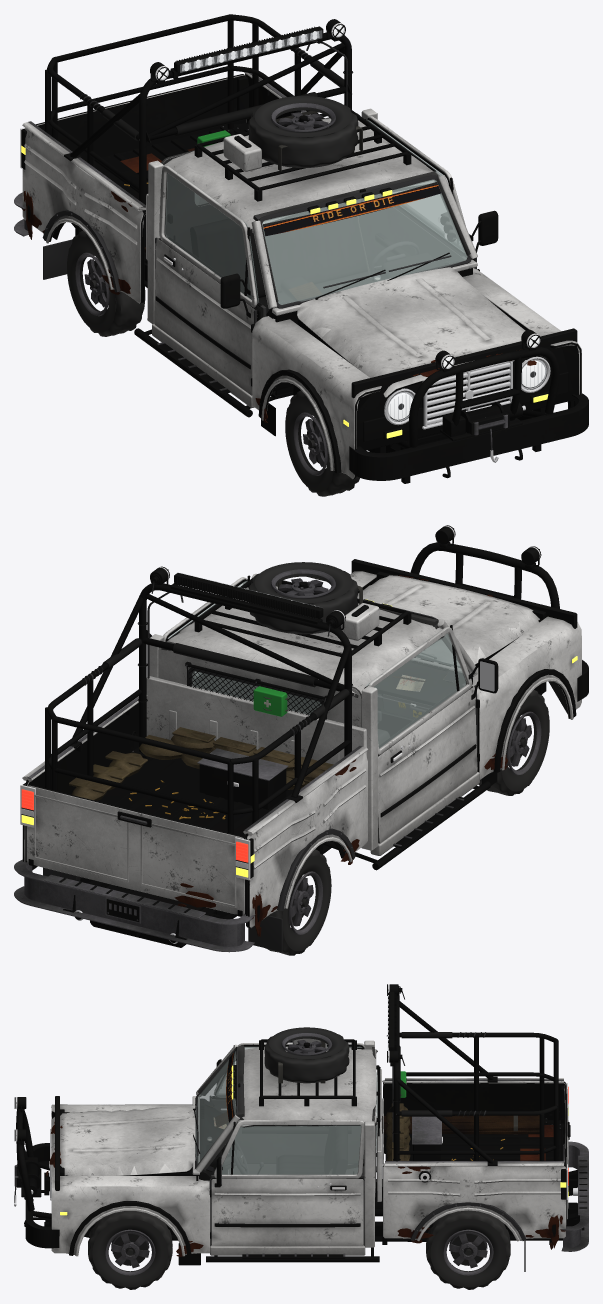
3 renders of one model, top to bottom at view 1: azimuth 30°, elevation 25°; view 2: azimuth 150°, elevation 25°; view 3: azimuth 270°, elevation 25°, orthographic. The views are drawn at different scales.
Visible parts, largest first — view 1: body, panel_door_R, panel_hood, panel_fender_R, panel_bumper_F, panel_tailgate, wheel_RR, wheel_FR, panel_door_L, panel_fender_L; view 2: body, panel_tailgate, panel_door_R, panel_fender_R, panel_bumper_R, panel_hood, wheel_RR, wheel_FR, panel_door_L; view 3: body, panel_door_L, panel_hood, panel_fender_L, wheel_RL, wheel_FL, panel_bumper_F, panel_bumper_R, panel_door_R, panel_fender_R, panel_tailgate.
Part boxes in pixels (bbox=[...]): body: bbox=[20, 14, 577, 483]; panel_door_R: bbox=[154, 165, 262, 395]; panel_hood: bbox=[297, 267, 546, 397]; panel_fender_R: bbox=[252, 316, 381, 479]; panel_bumper_F: bbox=[349, 393, 588, 480]; panel_tailgate: bbox=[36, 74, 246, 161]; wheel_RR: bbox=[67, 230, 145, 336]; wheel_FR: bbox=[285, 390, 359, 496]; panel_door_L: bbox=[366, 115, 498, 271]; panel_fender_L: bbox=[463, 268, 581, 408]; body: bbox=[20, 525, 577, 951]; panel_tailgate: bbox=[26, 784, 245, 916]; panel_door_R: bbox=[366, 625, 498, 843]; panel_fender_R: bbox=[472, 616, 581, 785]; panel_bumper_R: bbox=[14, 859, 254, 952]; panel_hood: bbox=[357, 575, 539, 664]; wheel_RR: bbox=[265, 849, 331, 955]; wheel_FR: bbox=[478, 690, 549, 795]; panel_door_L: bbox=[163, 575, 251, 695]; body: bbox=[14, 984, 584, 1271]; panel_door_L: bbox=[209, 1120, 364, 1246]; panel_hood: bbox=[46, 1105, 195, 1182]; panel_fender_L: bbox=[51, 1176, 210, 1265]; wheel_RL: bbox=[426, 1210, 510, 1289]; wheel_FL: bbox=[88, 1211, 172, 1289]; panel_bumper_F: bbox=[14, 1143, 59, 1248]; panel_bumper_R: bbox=[561, 1141, 588, 1251]; panel_door_R: bbox=[212, 1043, 365, 1156]; panel_fender_R: bbox=[51, 1104, 192, 1118]; panel_tailgate: bbox=[544, 1085, 570, 1226].
Bounding box in the file's own units: 2.45 × 2.55 × 5.7.
21 materials, 13 textured.
